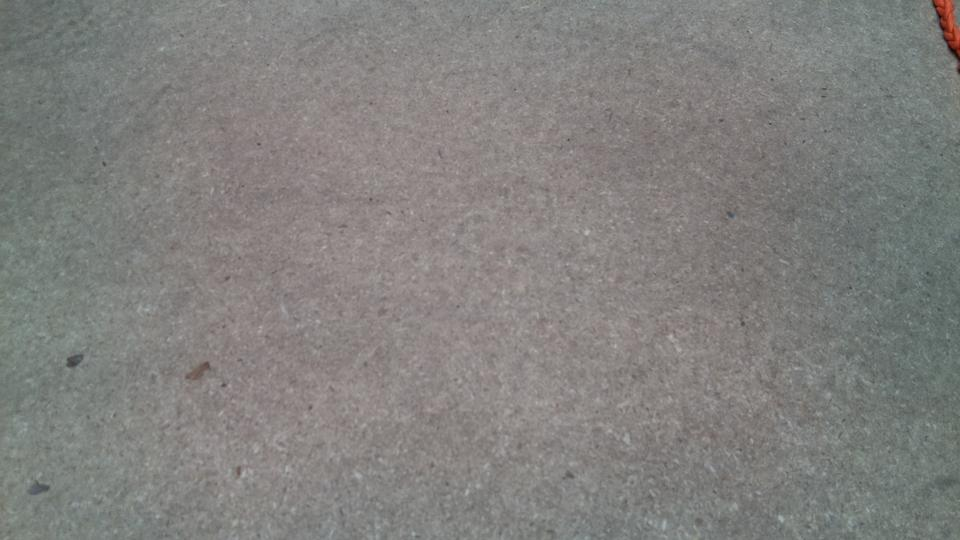rope: (925, 1, 959, 58)
